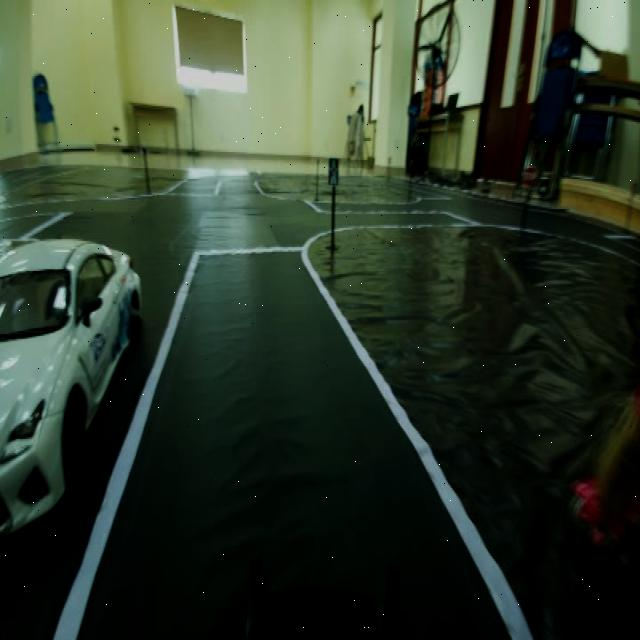car: (1, 146, 148, 542)
highway_exit: (321, 150, 344, 192)
